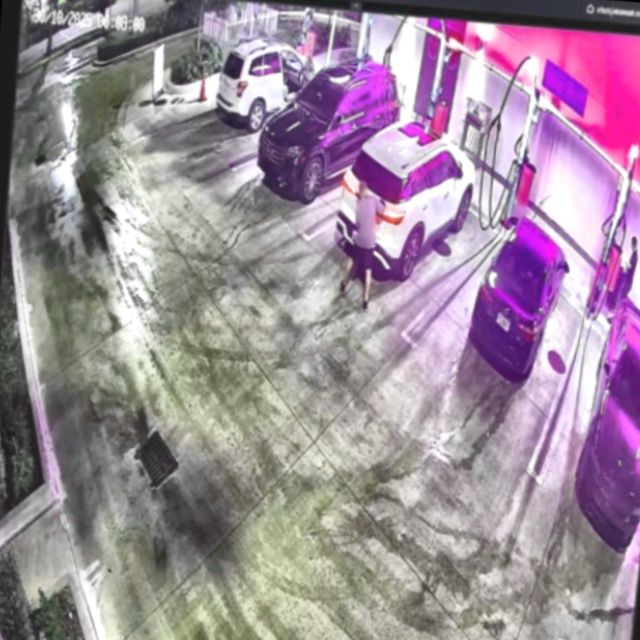Car: (253, 48, 405, 210), (336, 116, 481, 283), (467, 208, 574, 381)
